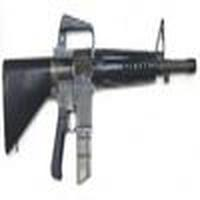gun: (1, 27, 197, 153)
